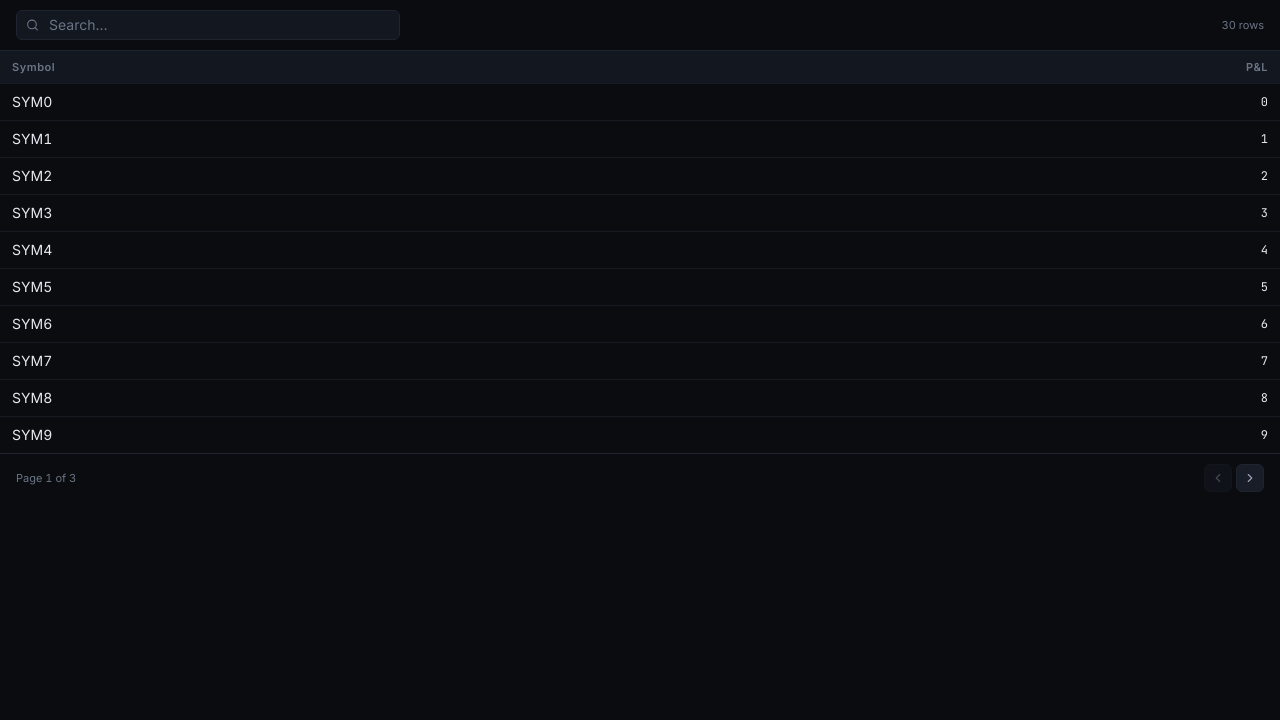
DataTable › paginates locally
Expected: the text "Page 1 of 3" is shown, [16,470,76,486]
Expected: the text "SYM15" is not shown
Click the button named "Next page" at coordinates (1250, 478), box [1236,464,1264,492]
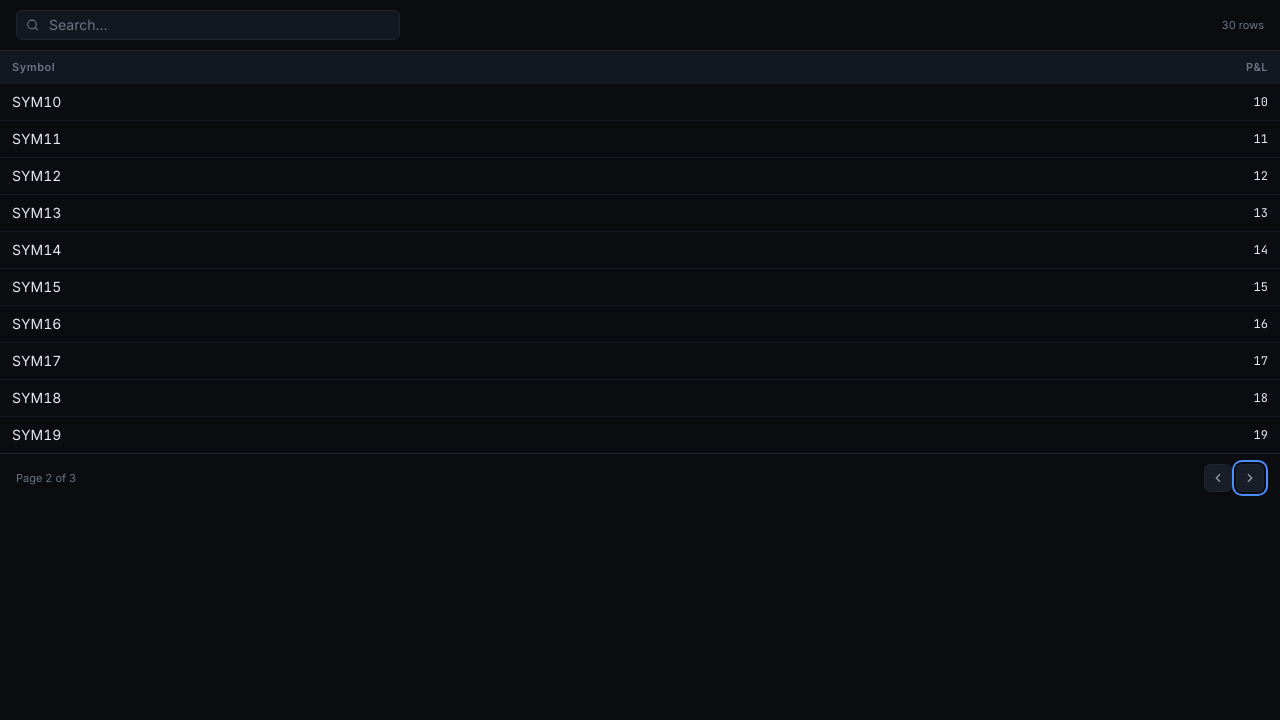
Expected: the text "Page 2 of 3" is shown, [16,470,76,486]
Expected: the text "SYM15" is shown, [0,268,787,306]
